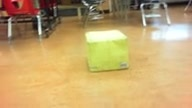cube: (84, 29, 130, 73)
